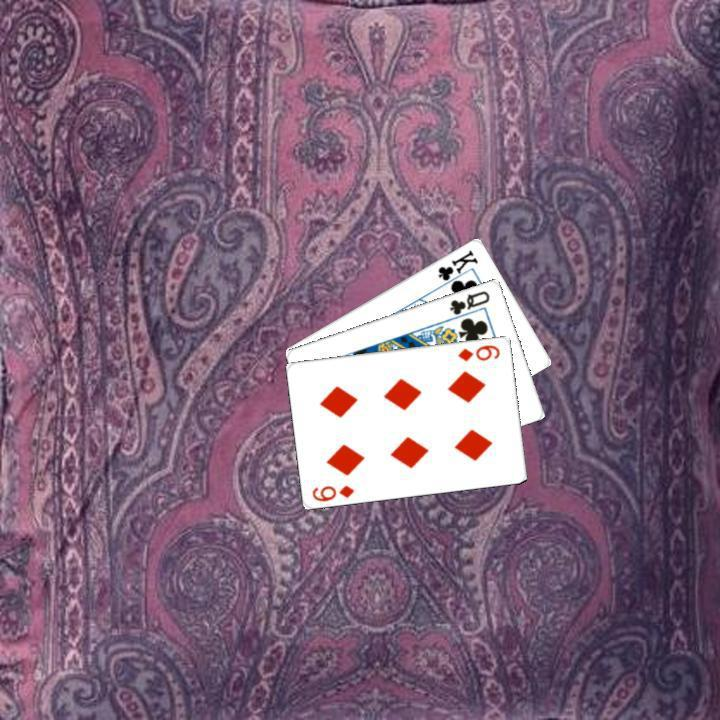6: (454, 340, 502, 363), (308, 481, 356, 503)
K: (434, 245, 480, 290)
Q: (445, 286, 492, 317)
